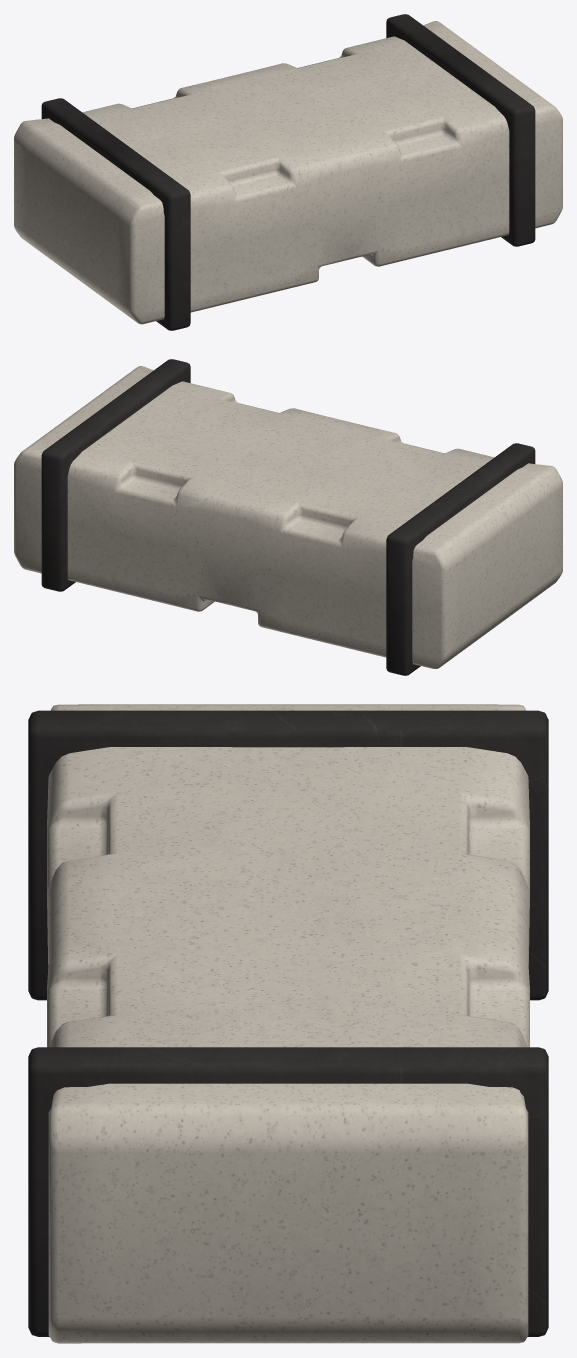
The model's file is Crate 2.fbx.
The picture shows the model from 3 angles, top to bottom: view 1: azimuth 30°, elevation 25°; view 2: azimuth 150°, elevation 25°; view 3: azimuth 270°, elevation 25°; orthographic projection. The views are drawn at different scales.
Visible parts, largest first — view 1: Crate 2; view 2: Crate 2; view 3: Crate 2.
Part boxes in pixels (left/top/right/bottom): Crate 2: left=14, top=14, right=562, bottom=330; Crate 2: left=14, top=359, right=562, bottom=675; Crate 2: left=28, top=704, right=548, bottom=1343.
Bounding box in the file's own units: 2.09 × 1.08 × 0.6321.
